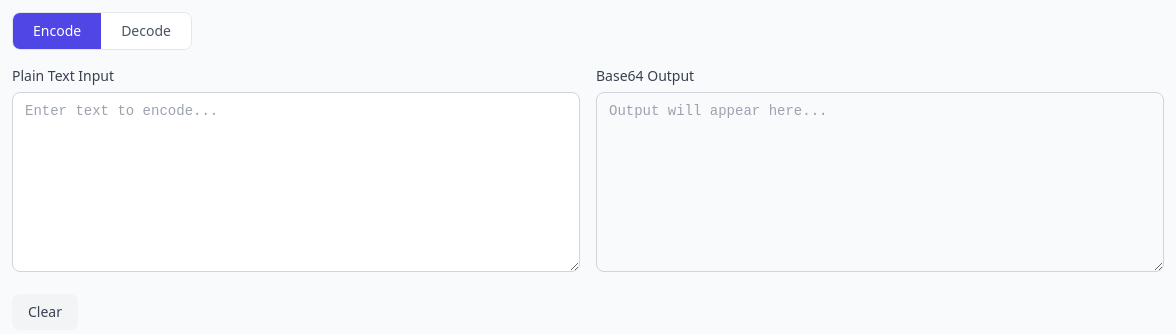
Test: Base64Tool › typing in input encodes to Base64 in output
Type "hello" into the text box with placeholder "Enter text to encode...".
click(296, 182); type("hello")  # box top-left (12, 92), bottom-right (580, 272)
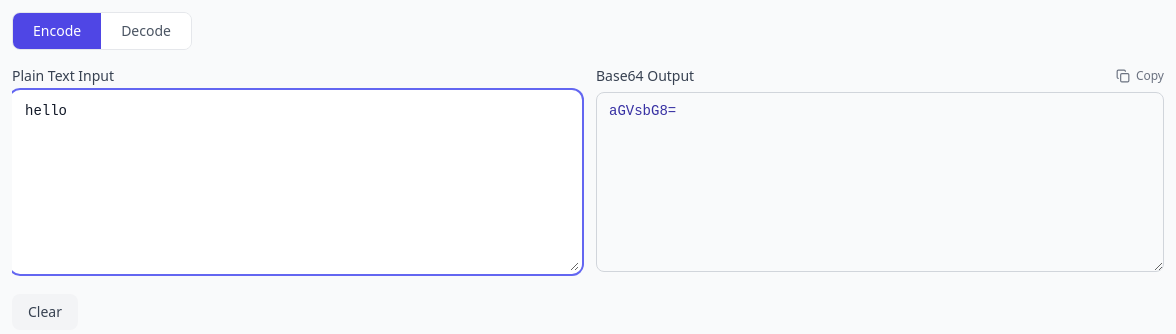
Check: the text box with placeholder "Output will appear here..." below "Base64 Output" holds "aGVsbG8=", box top-left (596, 92), bottom-right (1164, 272)
